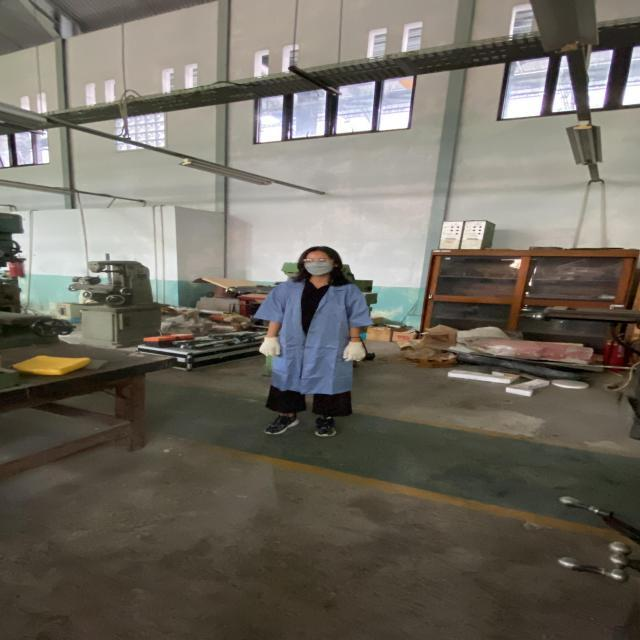glasses: (300, 258, 336, 264)
